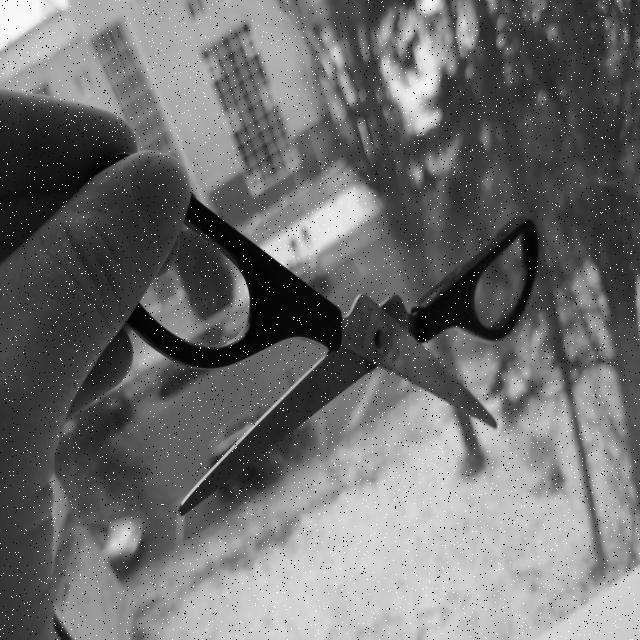scissors: (94, 140, 544, 528)
